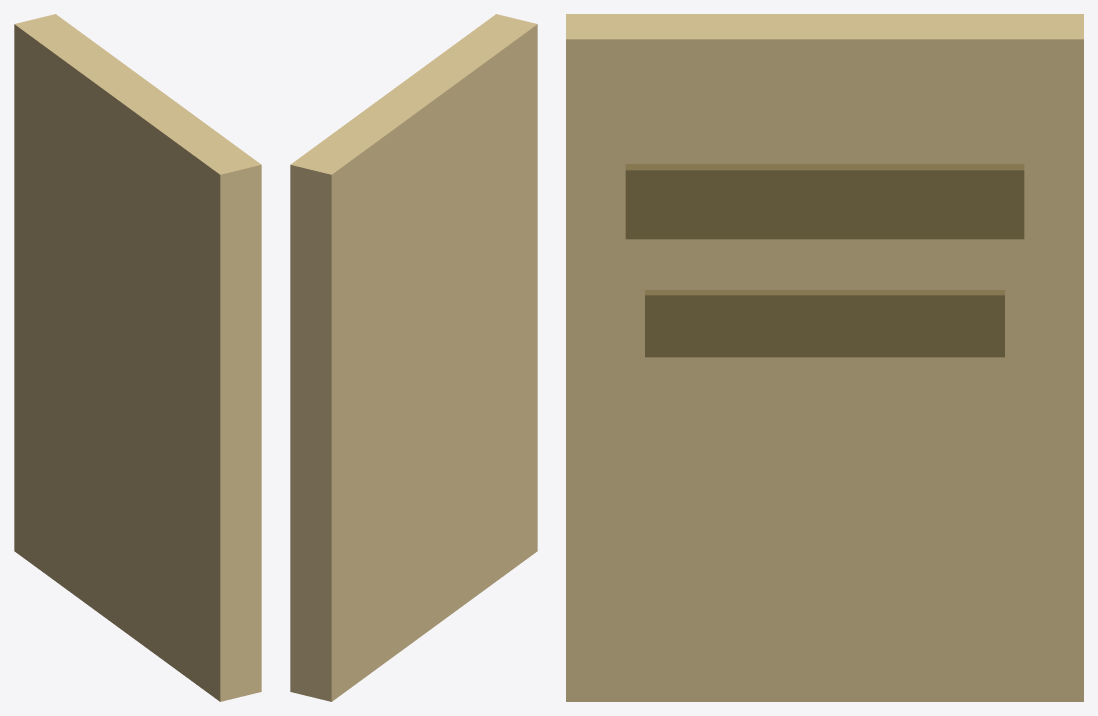
File: script.fbx
The picture shows the model from 3 angles, left to right: view 1: azimuth 30°, elevation 25°; view 2: azimuth 150°, elevation 25°; view 3: azimuth 270°, elevation 25°; orthographic projection. The views are drawn at different scales.
Parts seen in each view (by area): view 1: Cube; view 2: Cube; view 3: Cube, Cube.001.
Part boxes in pixels (bbox=[...]): Cube: bbox=[14, 14, 261, 701]; Cube: bbox=[290, 14, 537, 701]; Cube: bbox=[566, 14, 1083, 701]; Cube.001: bbox=[625, 164, 1024, 357].
Bounding box in the file's own units: 20.58 × 200 × 142.
